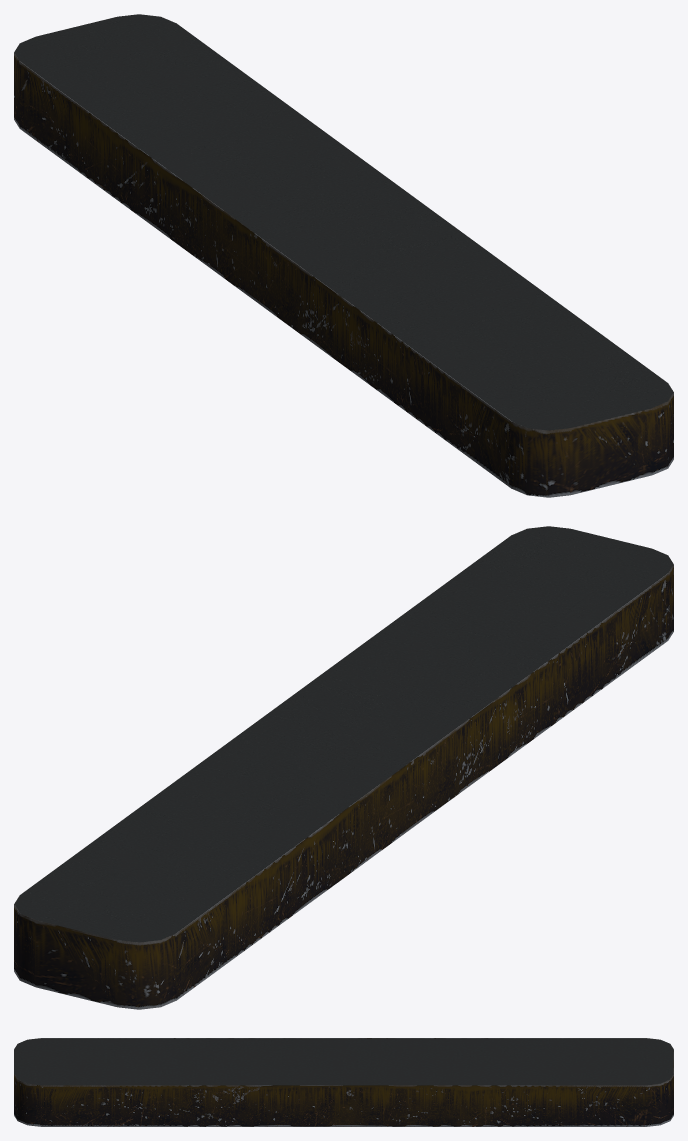
File: luminaria quebrada.fbx
3 renders of one model, top to bottom at view 1: azimuth 30°, elevation 25°; view 2: azimuth 150°, elevation 25°; view 3: azimuth 270°, elevation 25°, orthographic. The views are drawn at different scales.
Parts seen in each view (by area): view 1: luminaria quebrada; view 2: luminaria quebrada; view 3: luminaria quebrada.
Part boxes in pixels (bbox=[...]): luminaria quebrada: bbox=[14, 14, 673, 497]; luminaria quebrada: bbox=[14, 526, 673, 1009]; luminaria quebrada: bbox=[14, 1038, 673, 1126].
Bounding box in the file's own units: 17.02 × 7.78 × 100.
